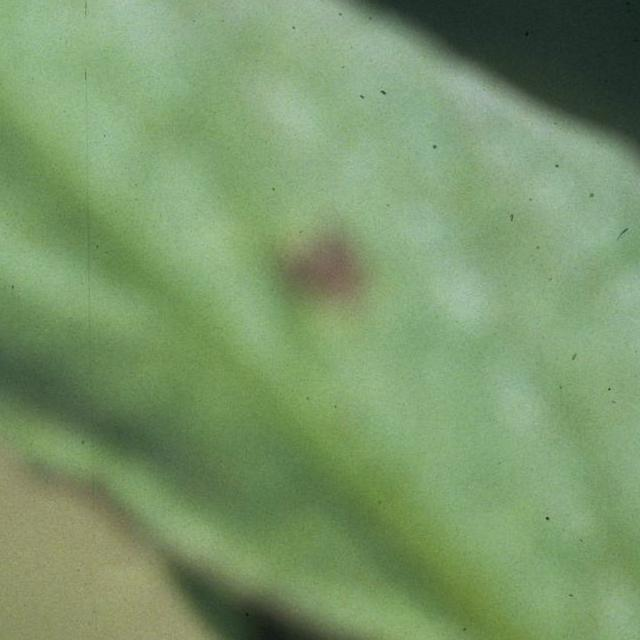Tomato leaf bacterial spot: (0, 501, 640, 640)
